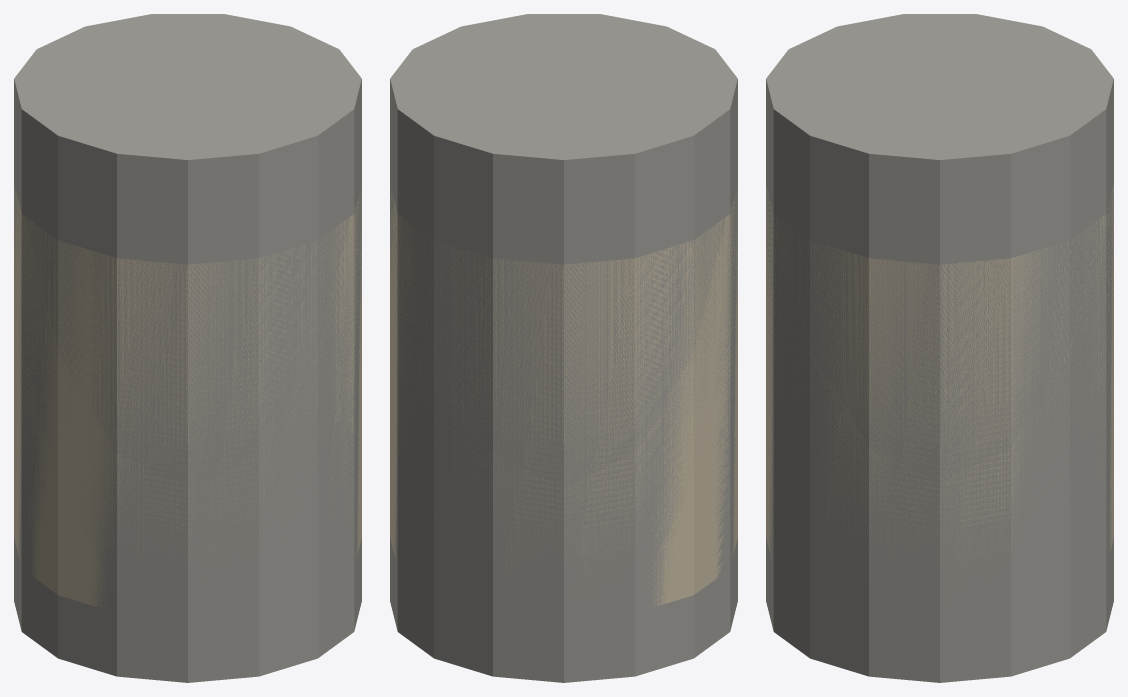
File: coffee-creamer-tin.glb
The picture shows the model from 3 angles, left to right: view 1: azimuth 30°, elevation 25°; view 2: azimuth 150°, elevation 25°; view 3: azimuth 270°, elevation 25°; orthographic projection.
Parts seen in each view (by area): view 1: brushed, paper; view 2: brushed, paper; view 3: brushed, paper.
Part boxes in pixels (box(x1,y1,x2,y2)): brushed: box(14, 14, 361, 682); paper: box(14, 183, 361, 608); brushed: box(390, 14, 737, 682); paper: box(390, 187, 737, 608); brushed: box(766, 14, 1113, 682); paper: box(766, 183, 1113, 603).
Bounding box in the file's own units: 0.0989 × 0.165 × 0.0995.
